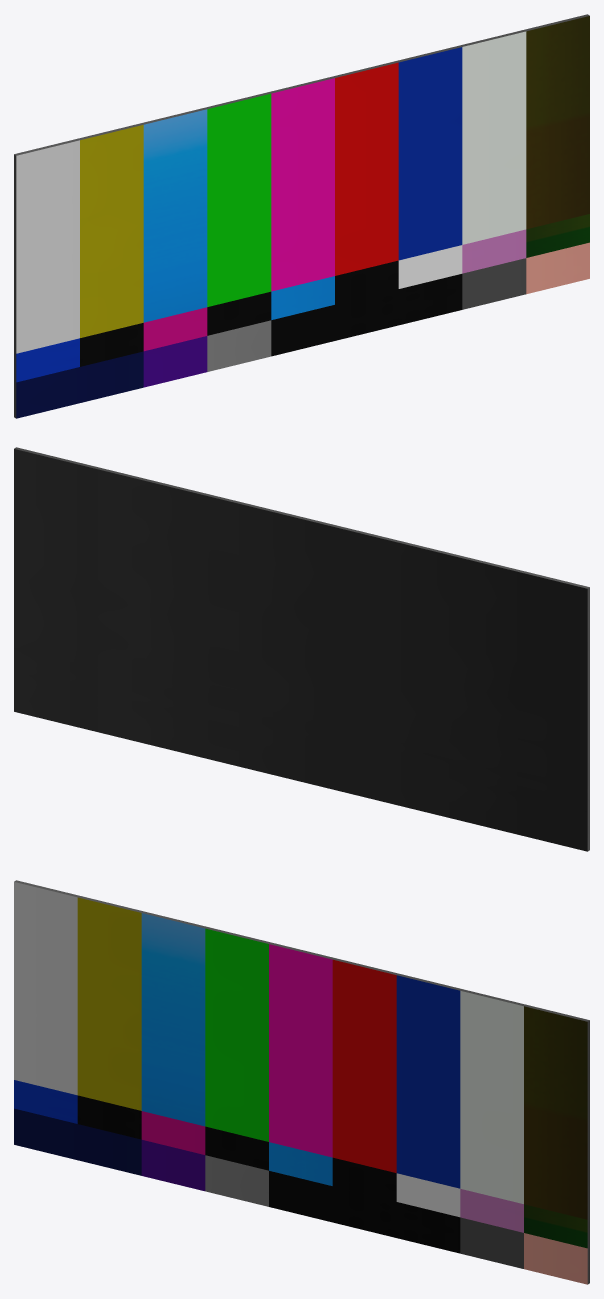
Rendered from Pantalla_Led.fbx.
The picture shows the model from 3 angles, top to bottom: view 1: azimuth 30°, elevation 25°; view 2: azimuth 150°, elevation 25°; view 3: azimuth 330°, elevation 25°; orthographic projection.
Visible parts, largest first — view 1: Pantalla_Led; view 2: Pantalla_Led; view 3: Pantalla_Led.
Part boxes in pixels (x1,y1,x2,y2): Pantalla_Led: (14, 14, 589, 418); Pantalla_Led: (14, 447, 589, 851); Pantalla_Led: (14, 880, 589, 1284).
Bounding box in the file's own units: 20.14 × 8.82 × 0.1345.
1 material, 1 textured.
